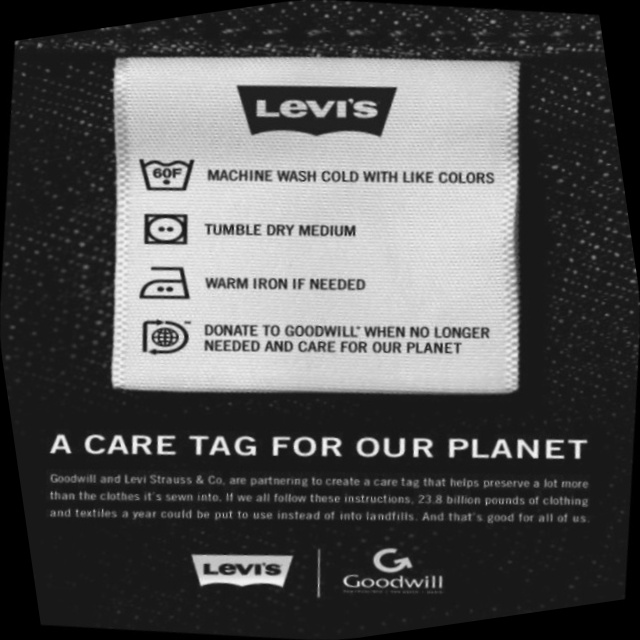30C: (128, 138, 207, 208)
iron_medium: (128, 250, 203, 316)
tumble_dry_medium: (131, 200, 201, 260)
